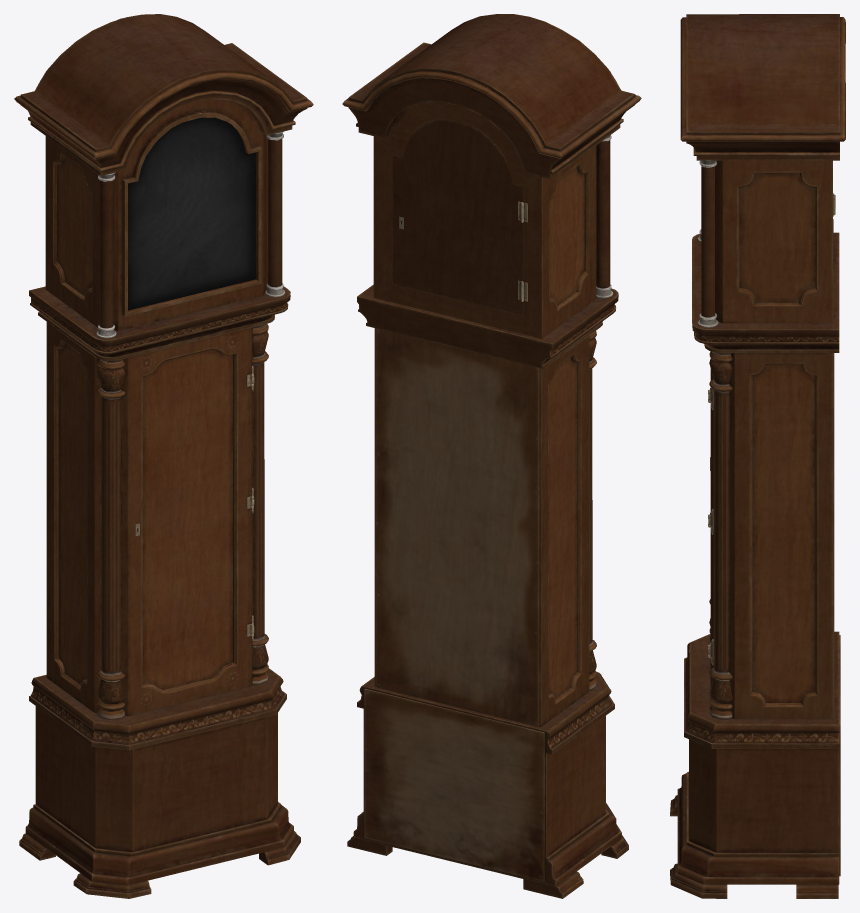
3 views of the same model, side by side, from view 1: azimuth 30°, elevation 25°; view 2: azimuth 150°, elevation 25°; view 3: azimuth 270°, elevation 25° (orthographic). The views are drawn at different scales.
Visible parts, largest first — view 1: vintage_grandfather_clock_01_Body; view 2: vintage_grandfather_clock_01_Body; view 3: vintage_grandfather_clock_01_Body.
Boxes of the visible parts, bbox=[...] form: vintage_grandfather_clock_01_Body: bbox=[14, 14, 313, 898]; vintage_grandfather_clock_01_Body: bbox=[342, 14, 641, 898]; vintage_grandfather_clock_01_Body: bbox=[670, 14, 845, 898].
Size of the model in its own units: 0.6256 by 2.19 by 0.4268.
2 materials, 2 textured.
